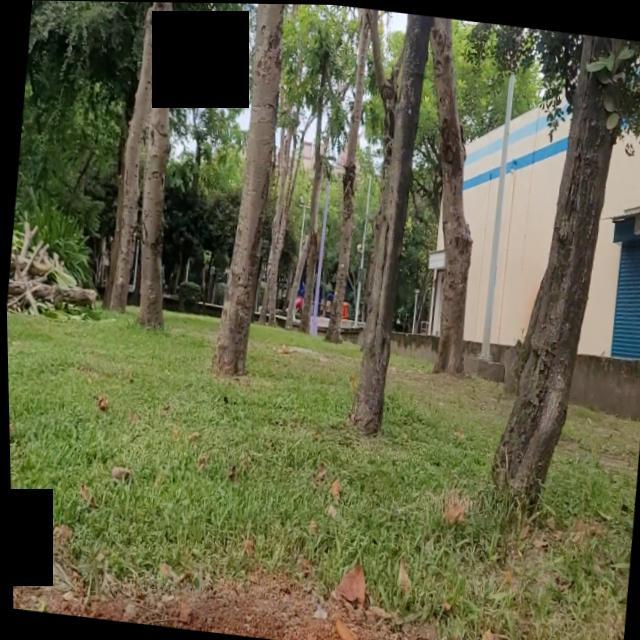Tree: (475, 26, 640, 514), (336, 10, 442, 435), (197, 4, 297, 394), (421, 19, 497, 388), (125, 3, 192, 337), (101, 20, 158, 324), (295, 124, 333, 329), (259, 146, 297, 331)
